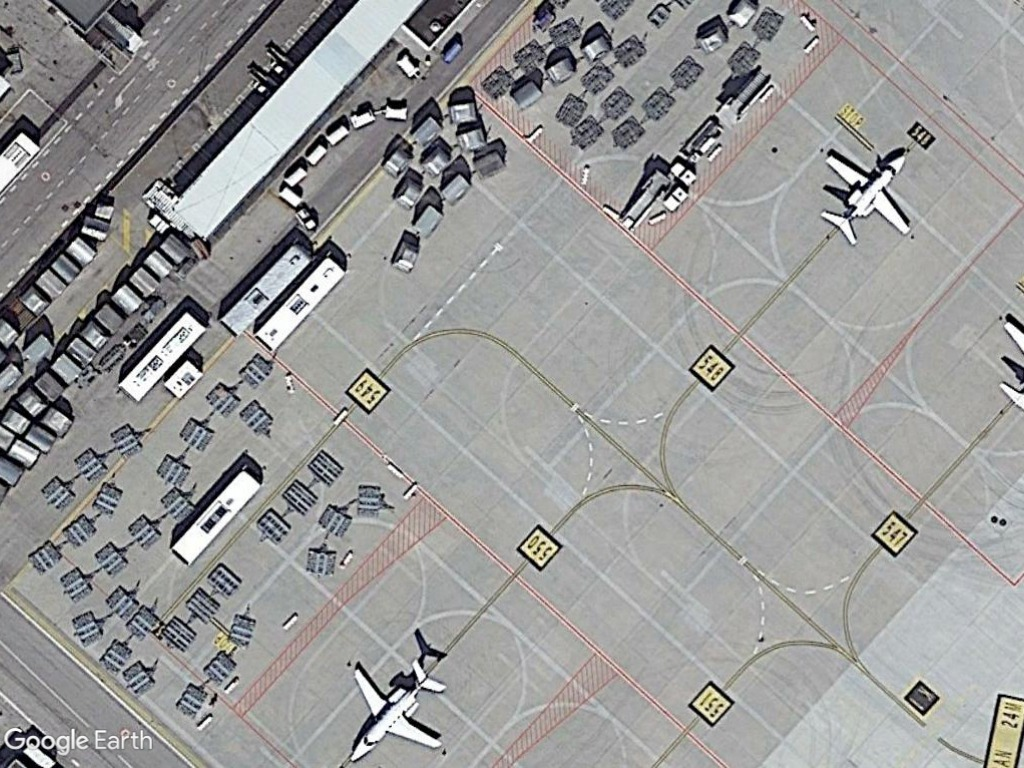bus: (162, 460, 268, 571), (217, 236, 319, 344), (250, 250, 352, 356), (114, 304, 211, 406)
chartered: (336, 654, 461, 768), (816, 143, 920, 249)
stairtruck: (613, 169, 677, 237)
